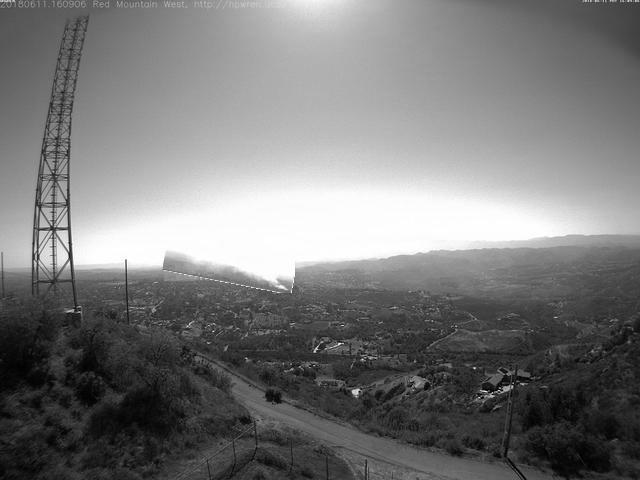smoke: (164, 244, 297, 289)
